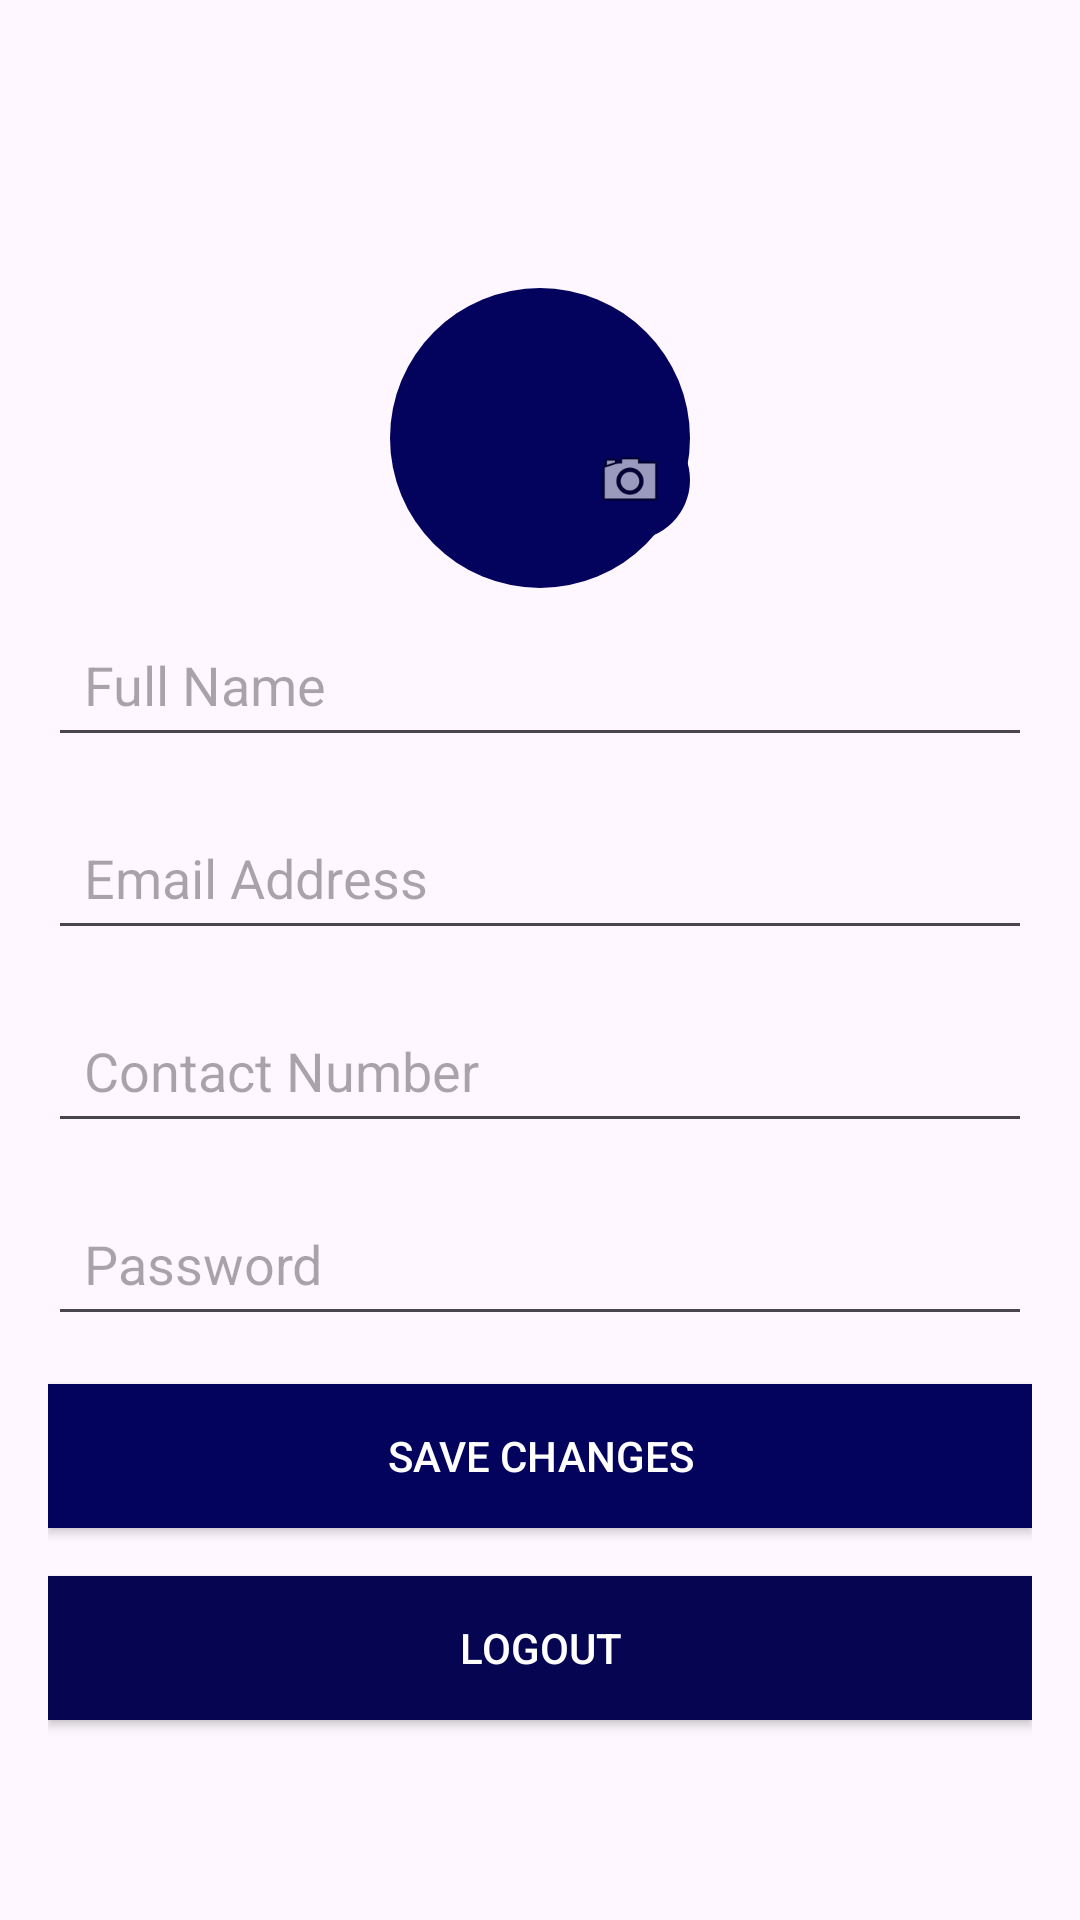

Named icons in this screenshot (1080px×1920px) and their bounding boxes, (x1, y1, x2, y2):
Camera Icon: (603, 457, 657, 501)
